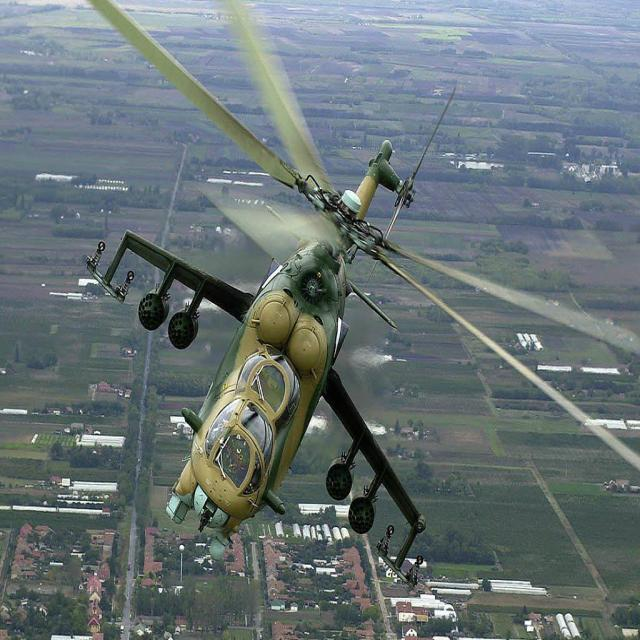MIL_HELO: (69, 0, 640, 574)
